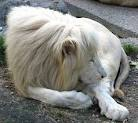lion: (6, 5, 130, 123)
